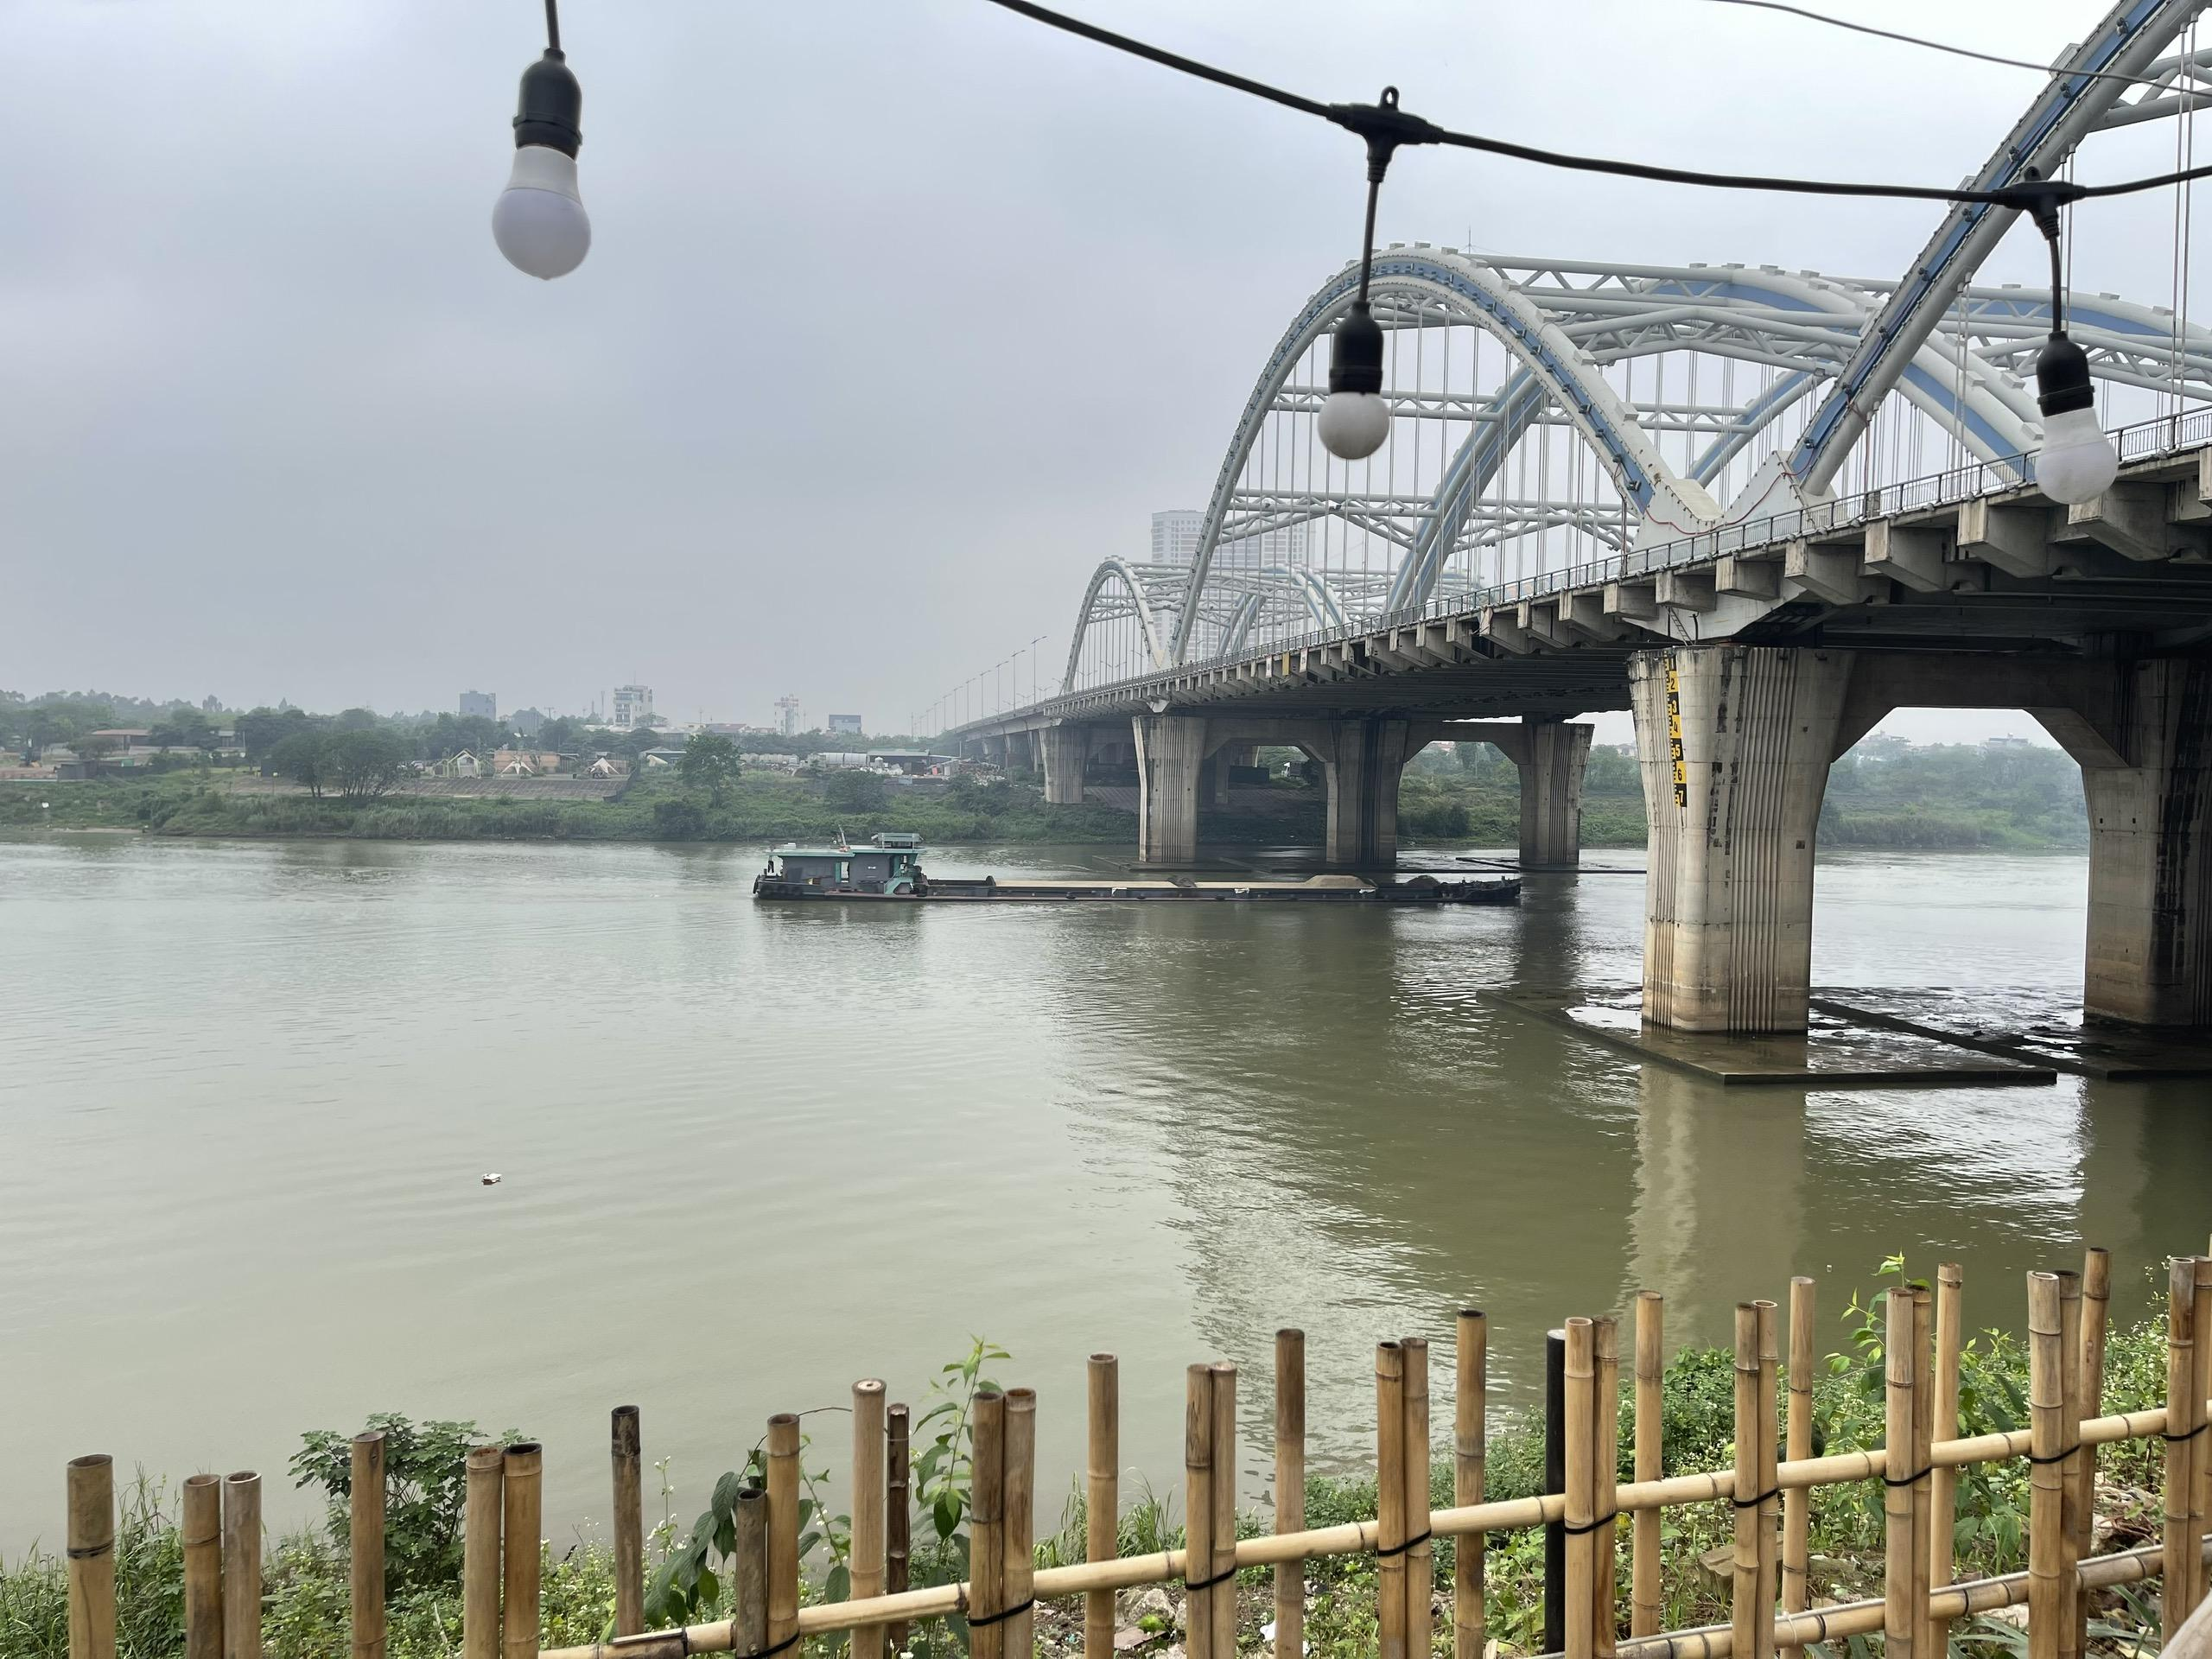Ship: (738, 836, 1383, 915)
